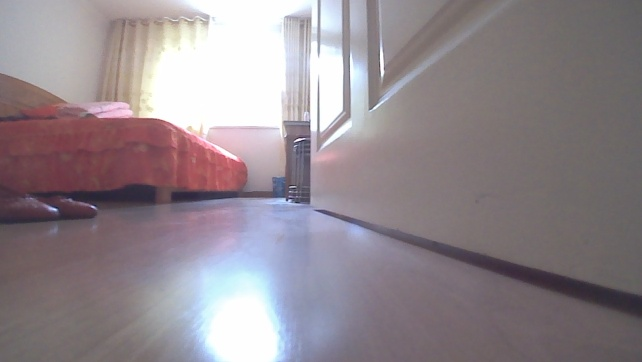bed: (0, 70, 249, 205)
shoe: (0, 190, 63, 223), (26, 191, 99, 218)
